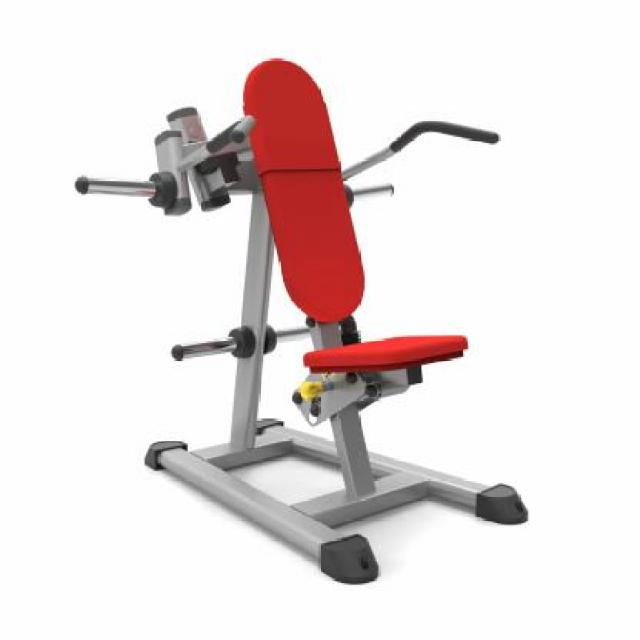shoulder press machine: (78, 60, 531, 582)
